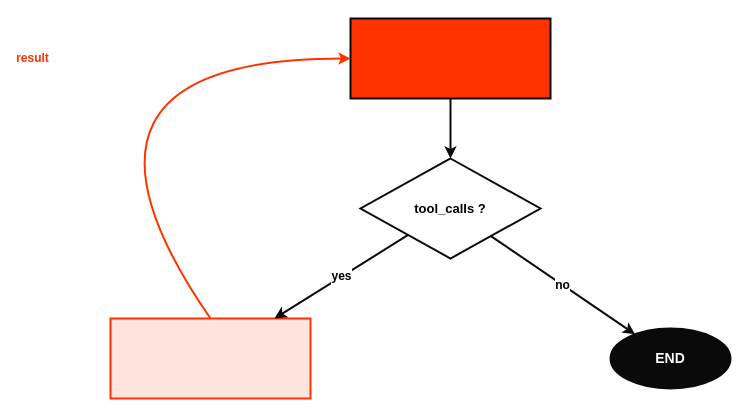
Image size: 749x416. Some labels were removed from this diagram. The shapes that lost their labels are listed below. From the top down, each one's centre as x and y in pixels, then its label:
At [450,58]: "AGENT LLM.bind_tools(...)".
At [210,358]: "TOOLS ToolNode".
